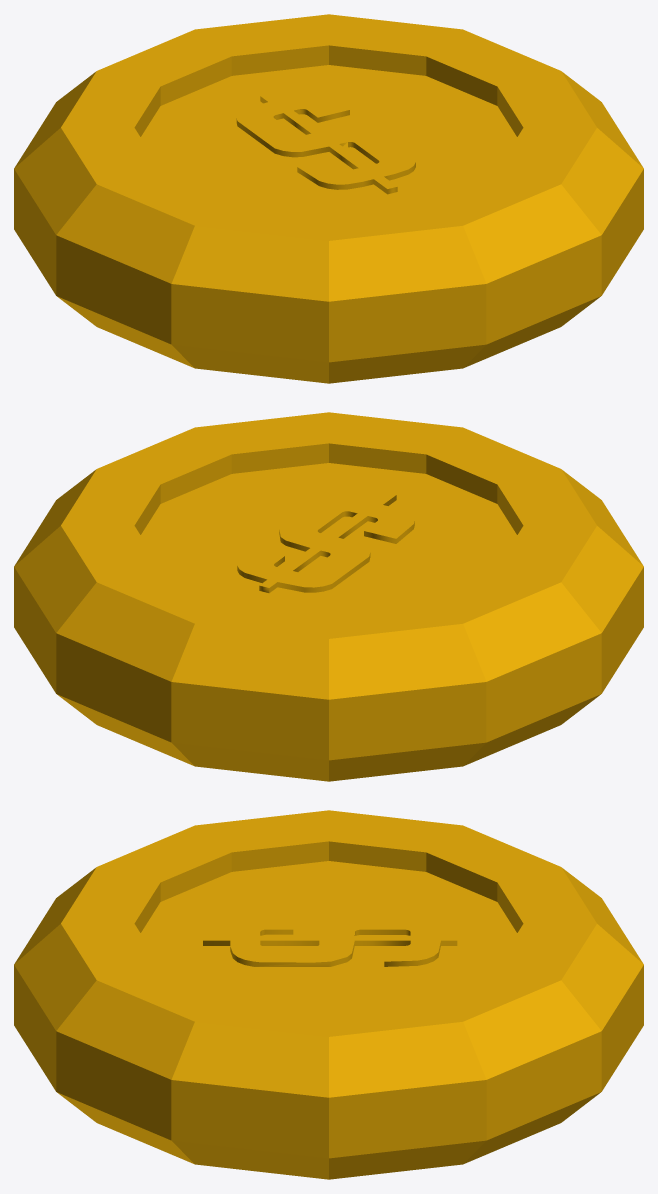
The model's file is coin_new.glb.
3 views of the same model, one above another, from view 1: azimuth 30°, elevation 25°; view 2: azimuth 150°, elevation 25°; view 3: azimuth 270°, elevation 25° (orthographic).
Parts seen in each view (by area): view 1: Coin_New; view 2: Coin_New; view 3: Coin_New.
Boxes of the visible parts, box(x1,y1,x2,y2) form: Coin_New: box(14, 14, 643, 383); Coin_New: box(14, 412, 643, 781); Coin_New: box(14, 810, 643, 1179).
Size of the model in its own units: 2 by 0.5 by 2.
